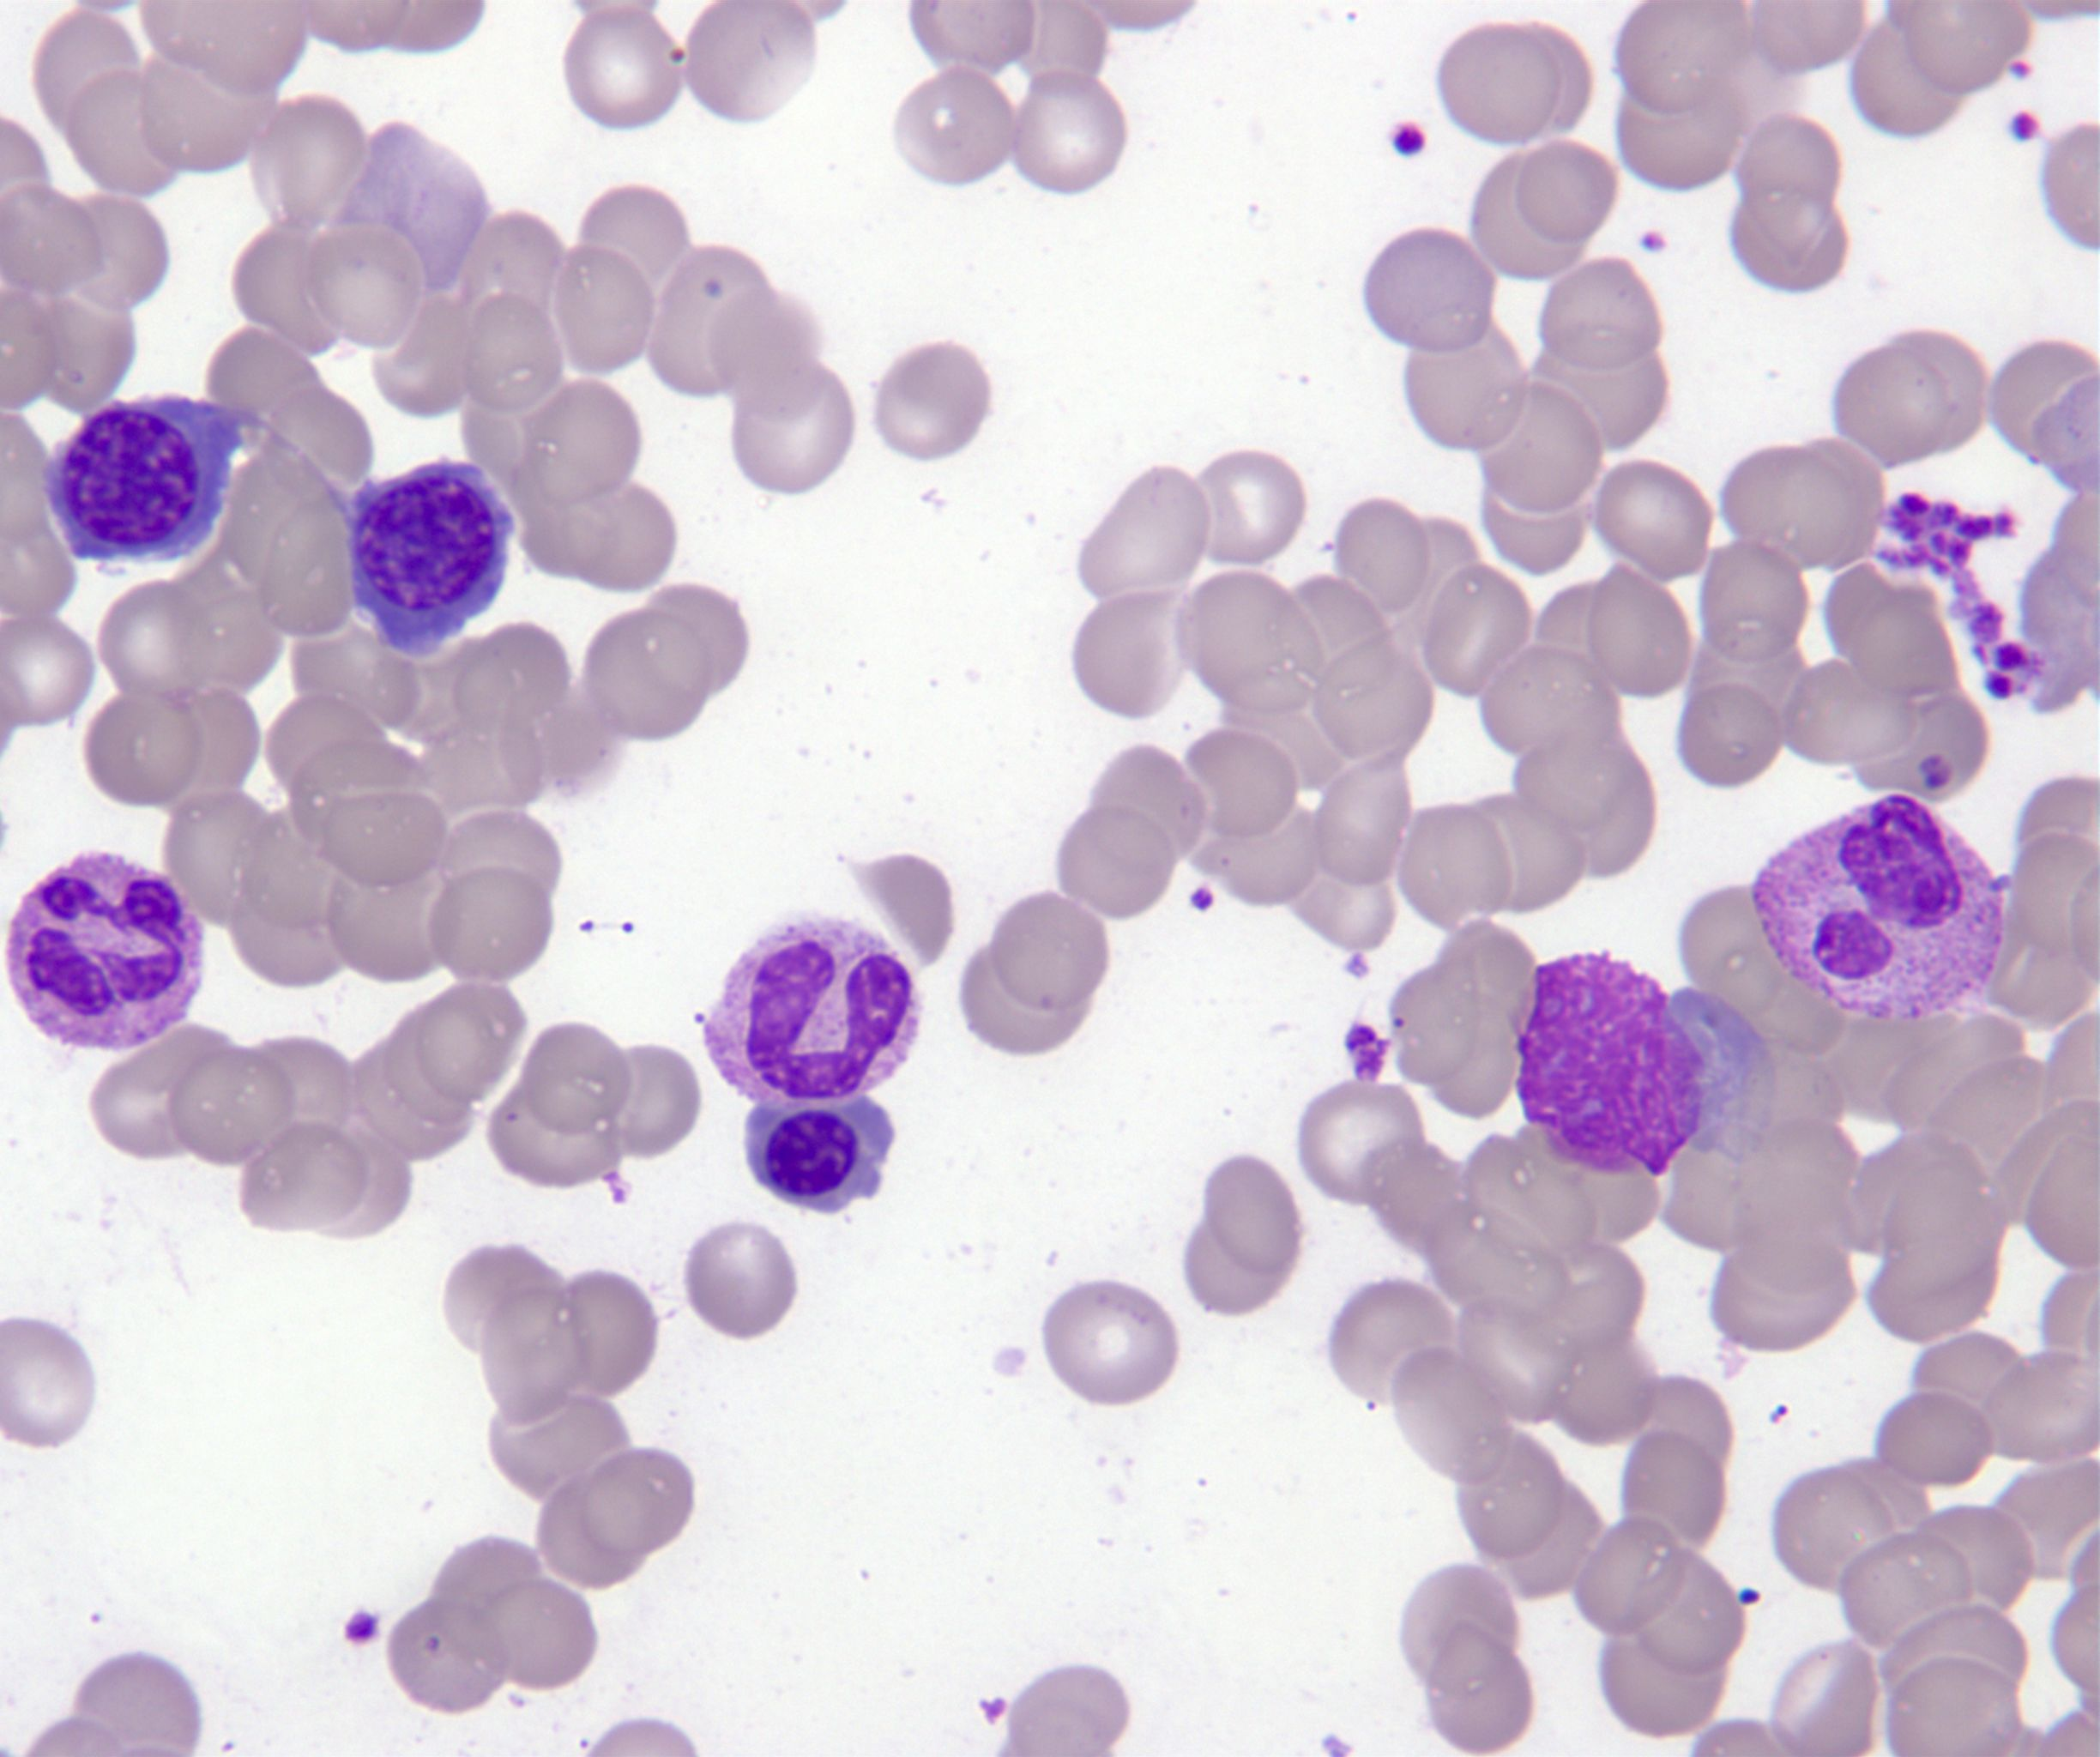23: (344, 443, 518, 661), (37, 391, 248, 571)
24: (740, 1094, 903, 1216)
5: (699, 907, 923, 1103)
6: (1748, 790, 2016, 1031), (0, 846, 209, 1059)
x: (1507, 944, 1711, 1181)
